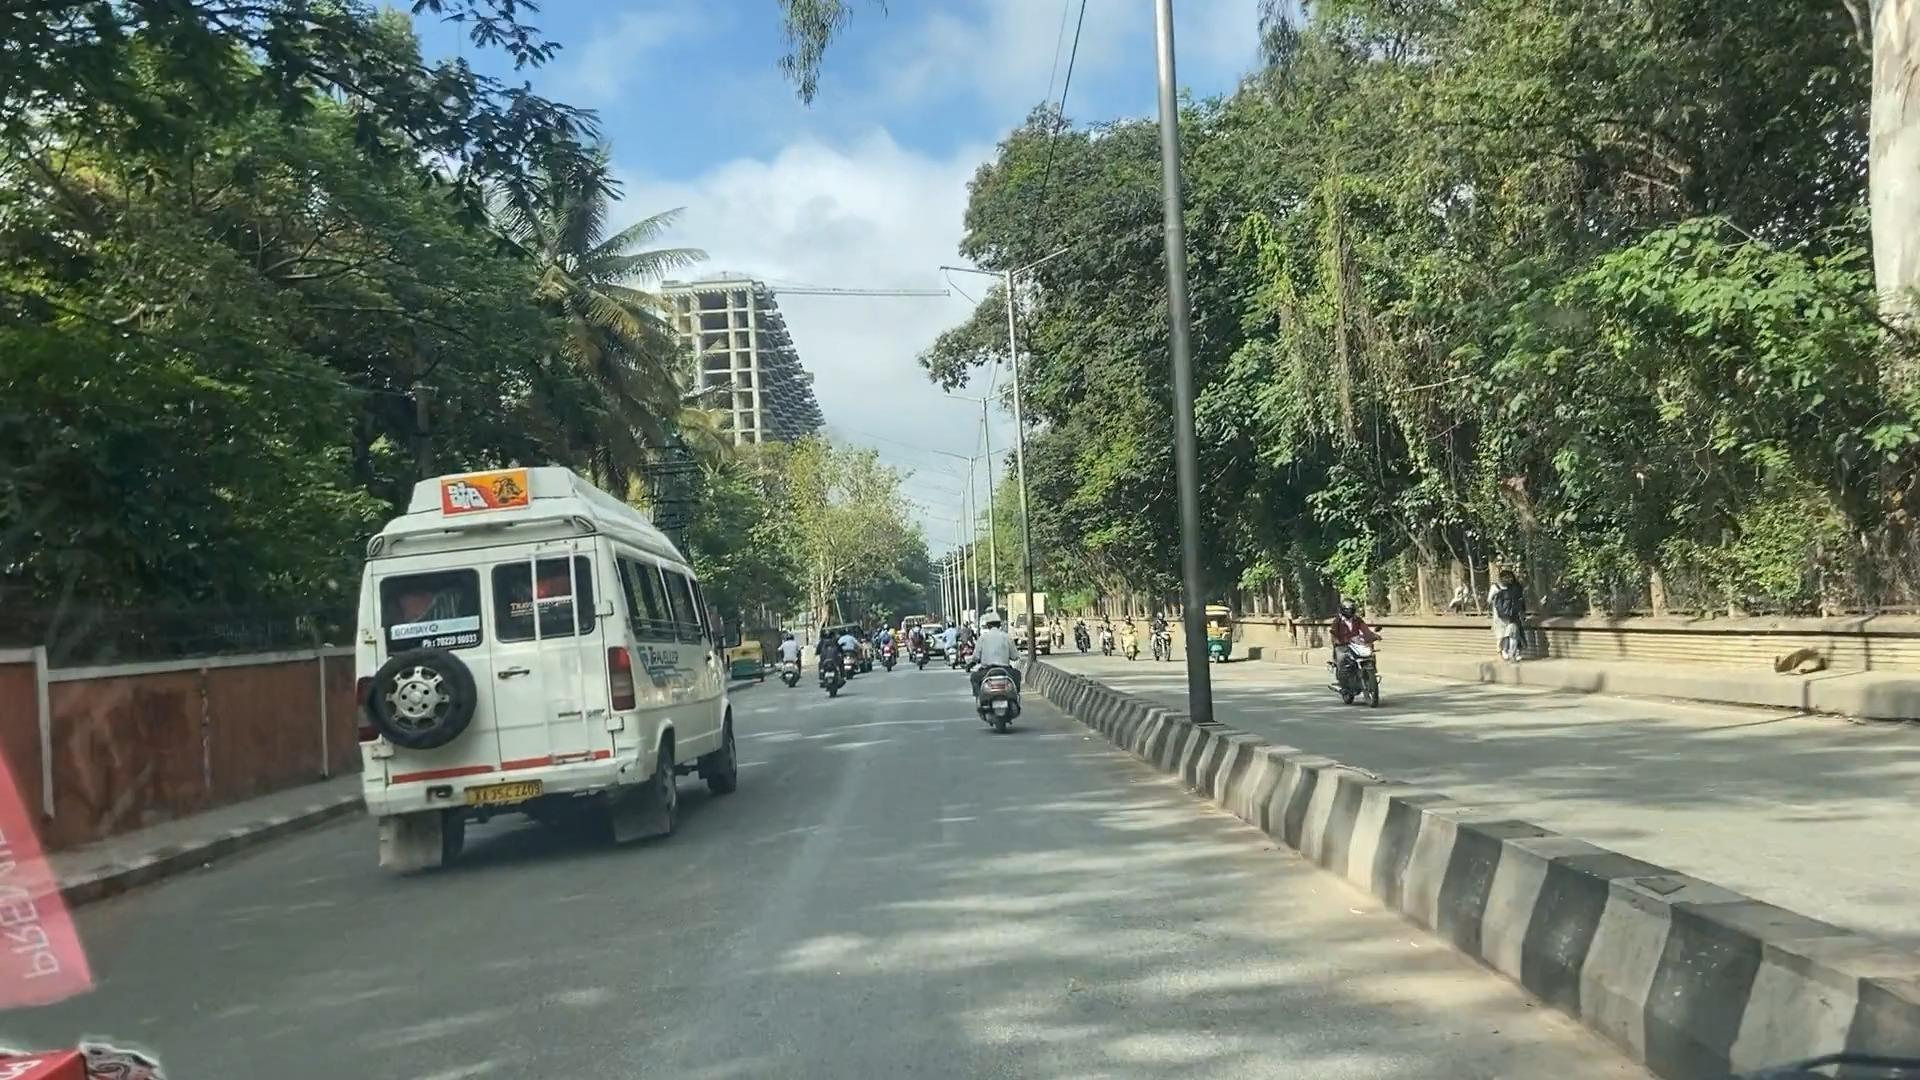HMV: (363, 524, 653, 841)
LMV: (975, 607, 1007, 719), (818, 612, 848, 700)
